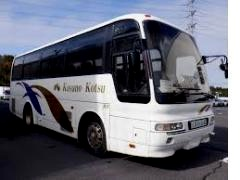bus: (10, 18, 213, 159)
